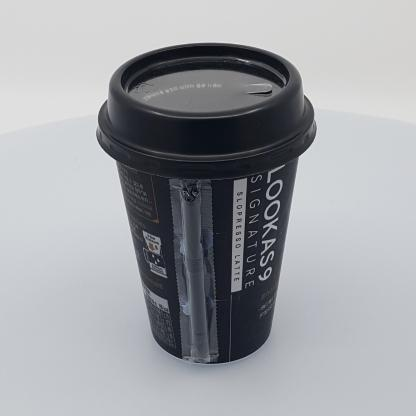----------------: (96, 42, 317, 366)
